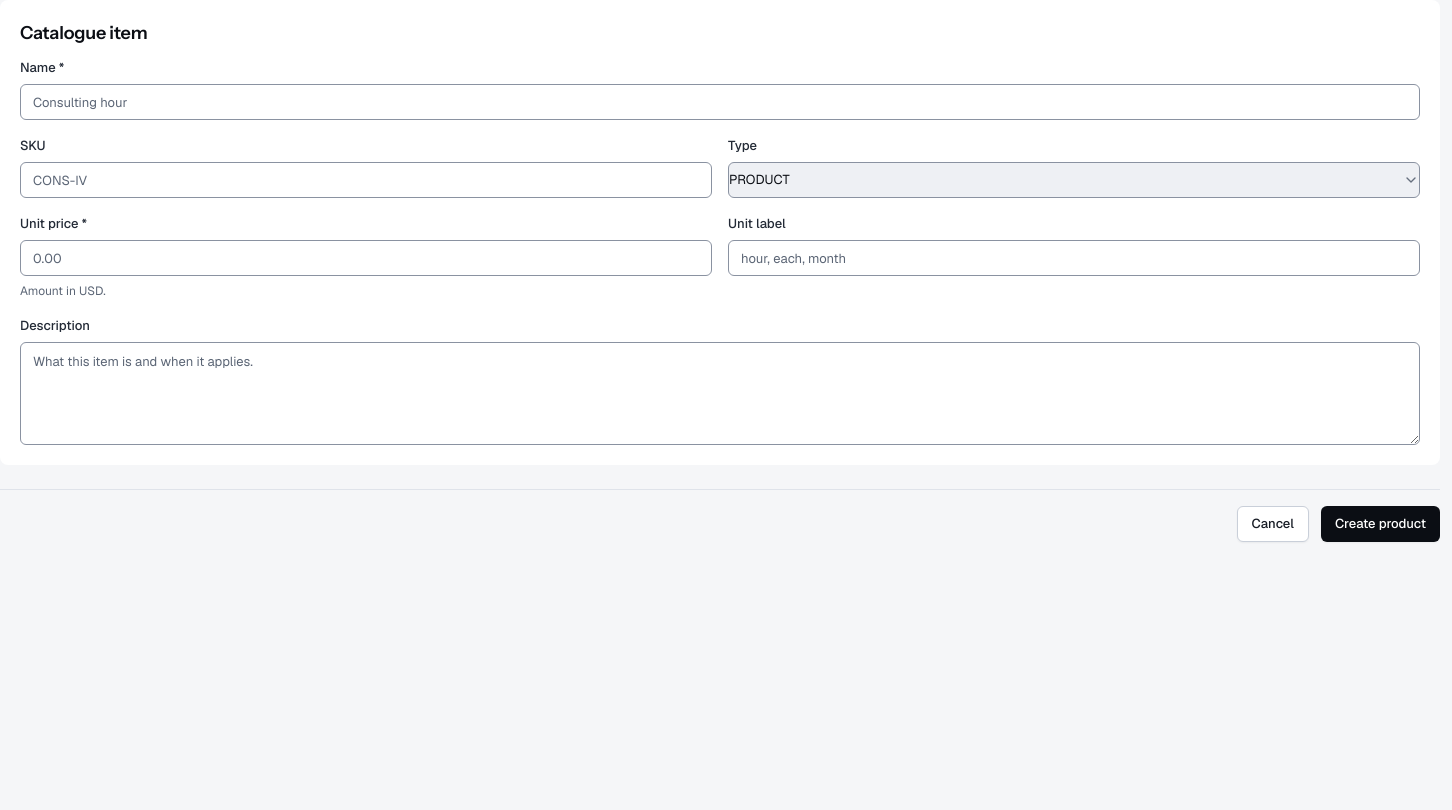
Test case: validation › refuses a negative price
In the field labelled "Name *": (720, 102) left=20, top=84, right=1420, bottom=120, type "Widget"
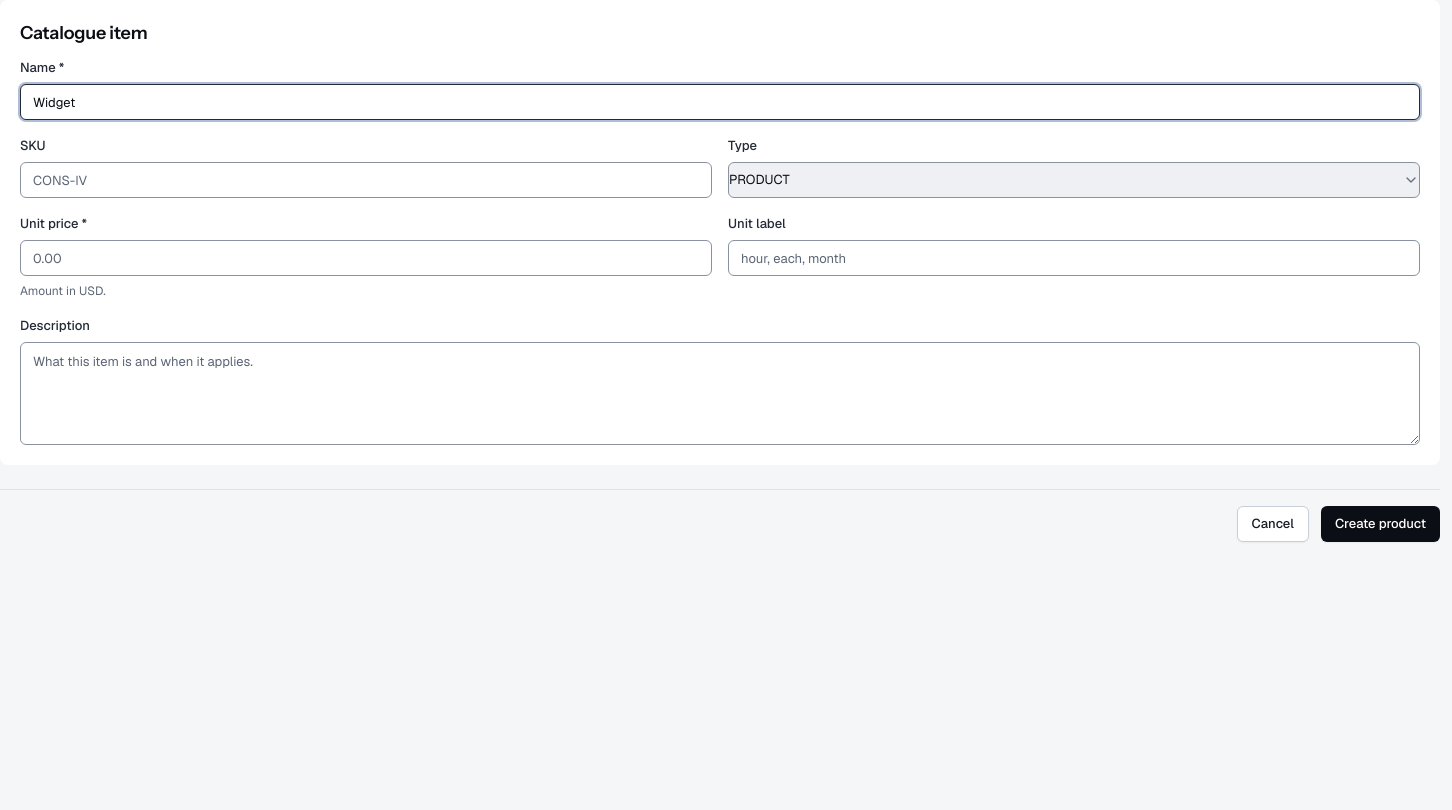
In the field labelled "Unit price *": (366, 258) left=20, top=240, right=712, bottom=276, type "-5"
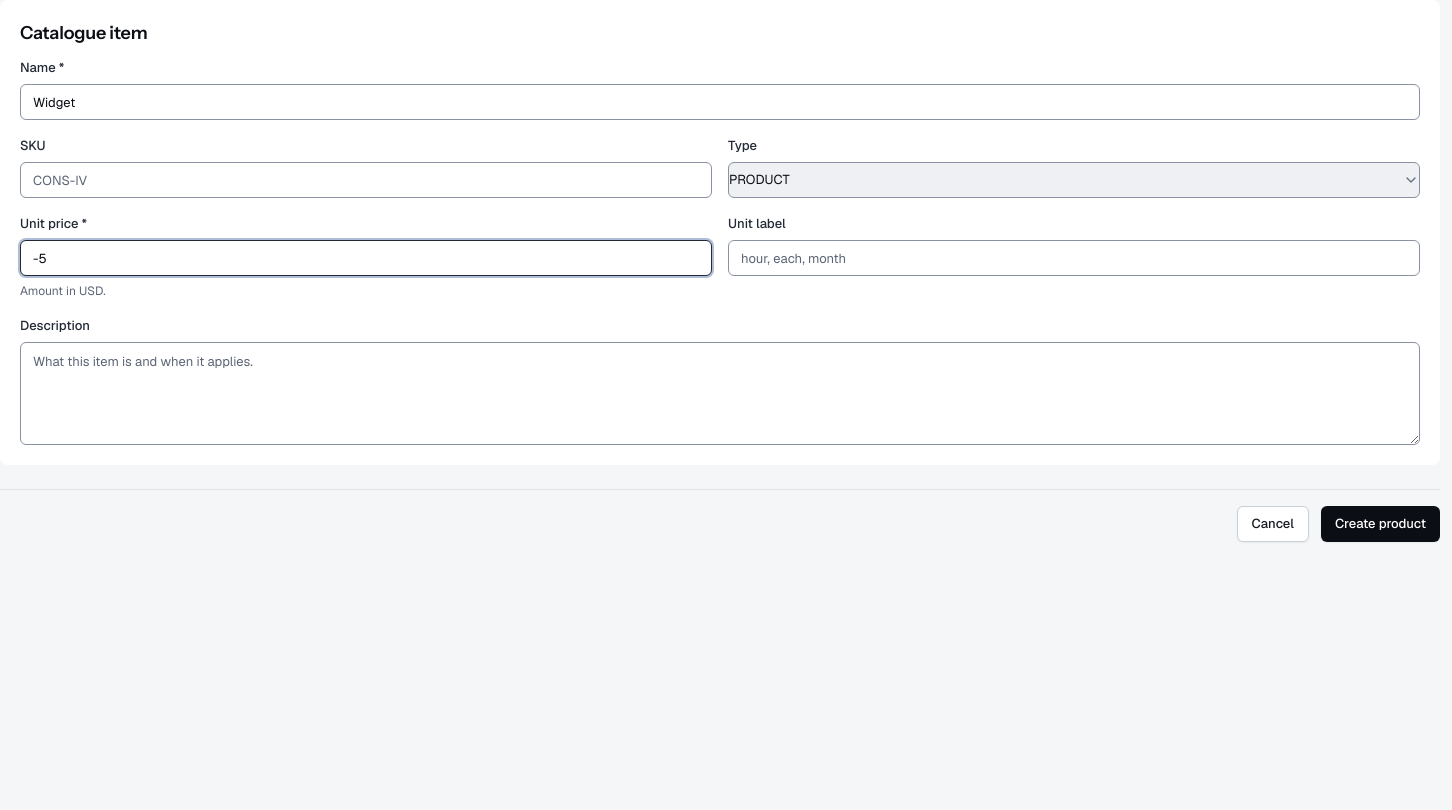
Click the button "Create product": (1380, 524) left=1321, top=506, right=1440, bottom=542
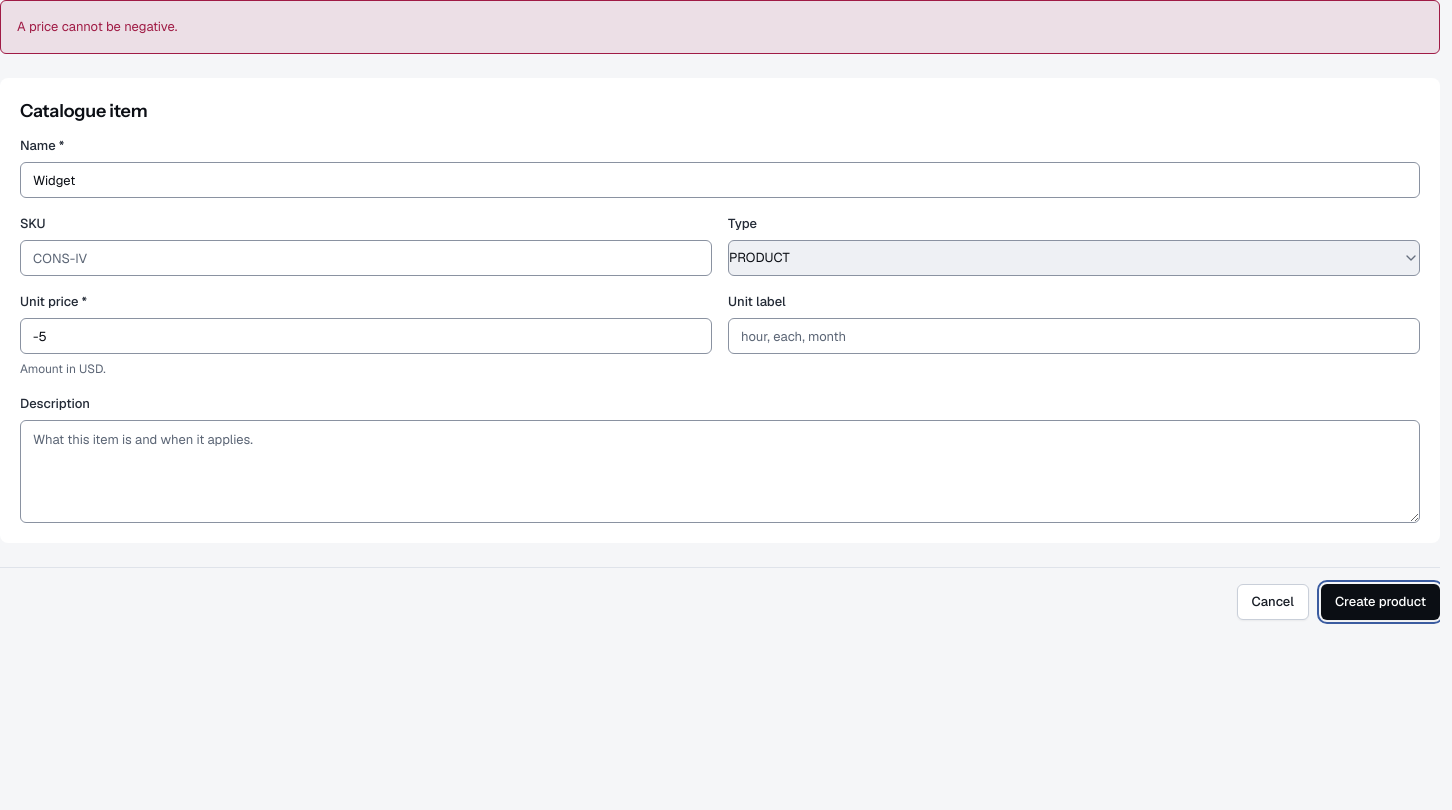
expect the text "A price cannot be negative." is shown: met, box left=0, top=0, right=1440, bottom=54
